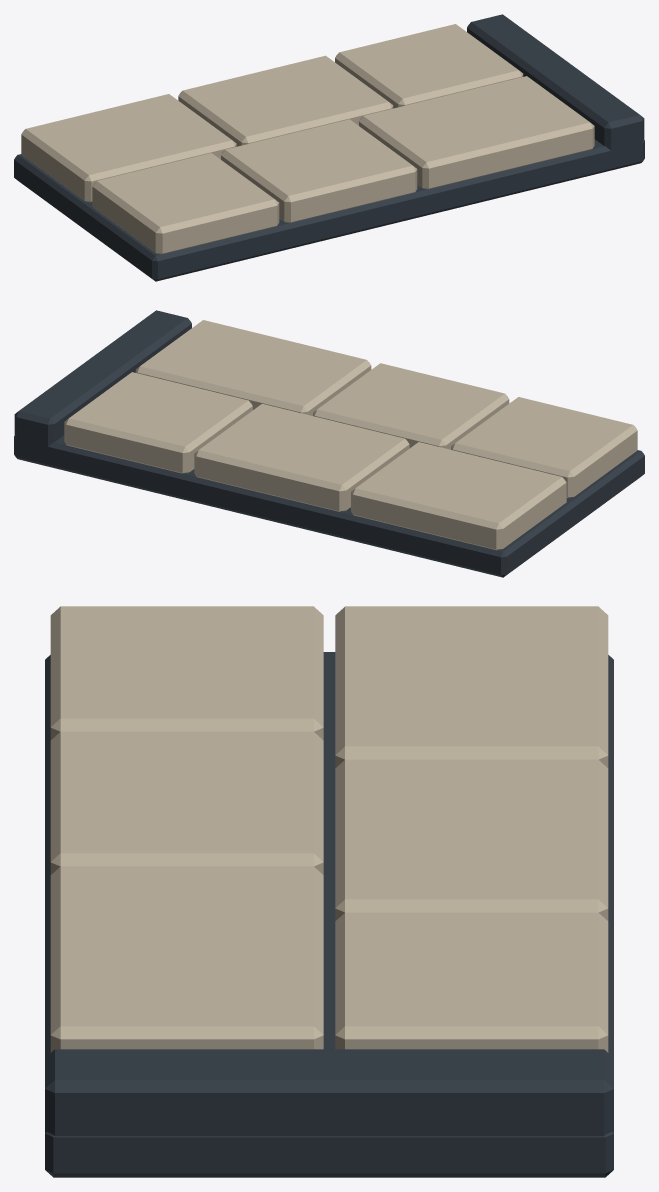
File: Court_WalkwayStraight.fbx
The picture shows the model from 3 angles, top to bottom: view 1: azimuth 30°, elevation 25°; view 2: azimuth 150°, elevation 25°; view 3: azimuth 270°, elevation 25°; orthographic projection. The views are drawn at different scales.
Visible parts, largest first — view 1: Concrete, FrameDark; view 2: Concrete, FrameDark; view 3: Concrete, FrameDark.
Boxes of the visible parts, left/top/right/bottom form: Concrete: left=21, top=24, right=594, bottom=254; FrameDark: left=14, top=14, right=644, bottom=281; Concrete: left=64, top=320, right=637, bottom=550; FrameDark: left=14, top=310, right=644, bottom=577; Concrete: left=50, top=606, right=608, bottom=1052; FrameDark: left=45, top=652, right=613, bottom=1177.
Bounding box in the file's own units: 8 × 0.8 × 4.
